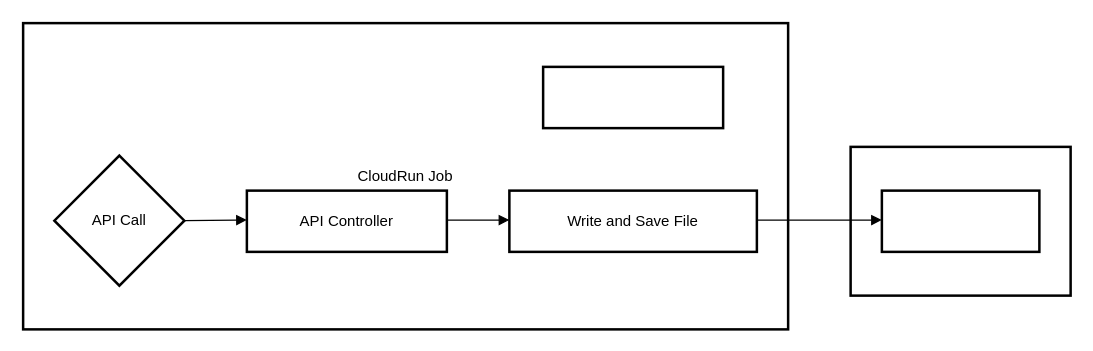
Image size: 1093x351. Some labels were removed from this diagram. The centre of each missing label's shape, as x and y in pixels:
"API Request" belongs at [632,97].
"Read File" belongs at [960,220].
